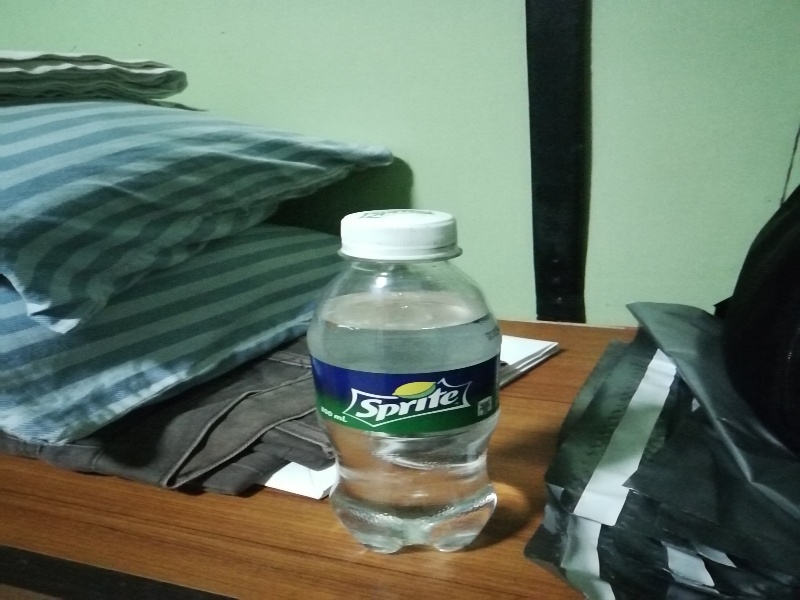PET #1: (298, 201, 505, 559)
